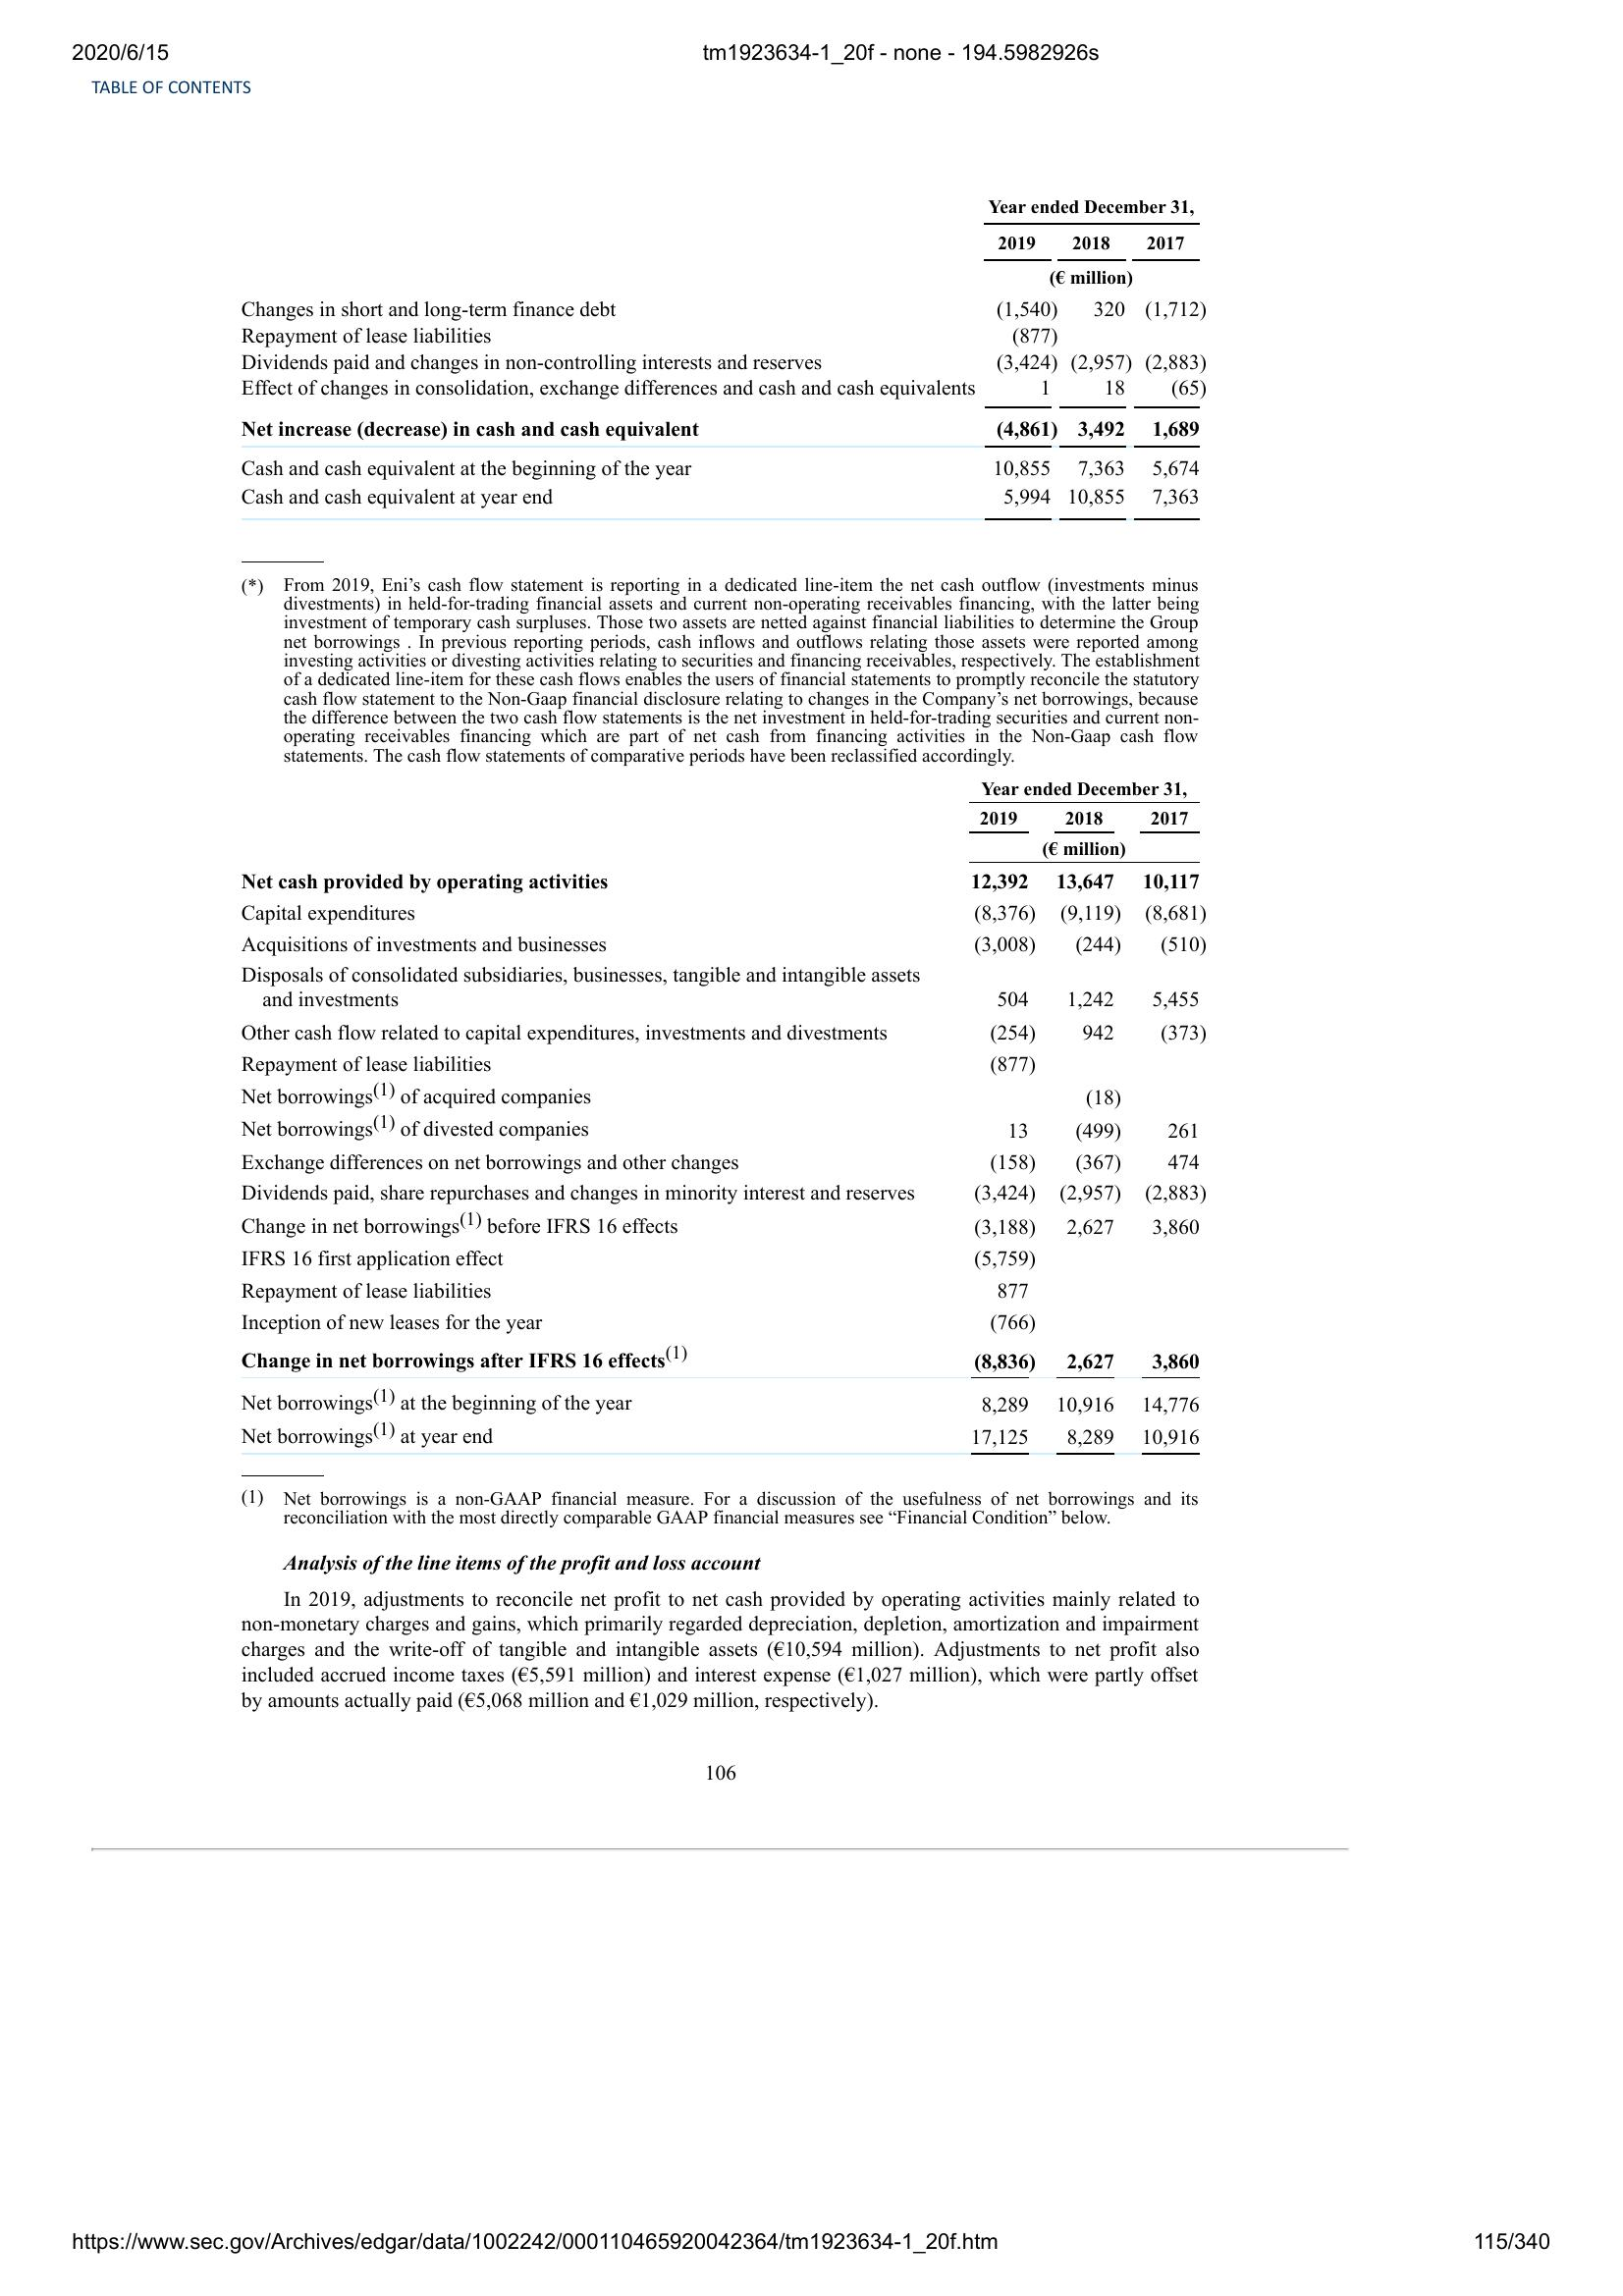table: (234, 776, 1212, 1464), (227, 190, 1210, 525)
